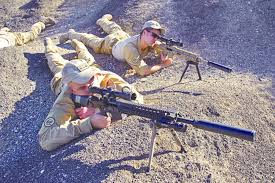Gun: (97, 106, 257, 141), (166, 46, 227, 69)
